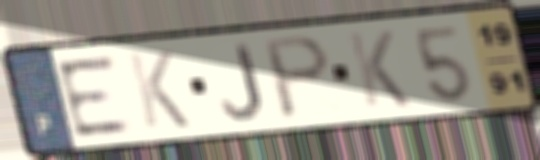5: (409, 21, 478, 104)
E: (51, 51, 137, 141)
J: (218, 41, 267, 124)
K: (123, 48, 194, 131), (344, 28, 414, 111)
P: (261, 32, 334, 124)
